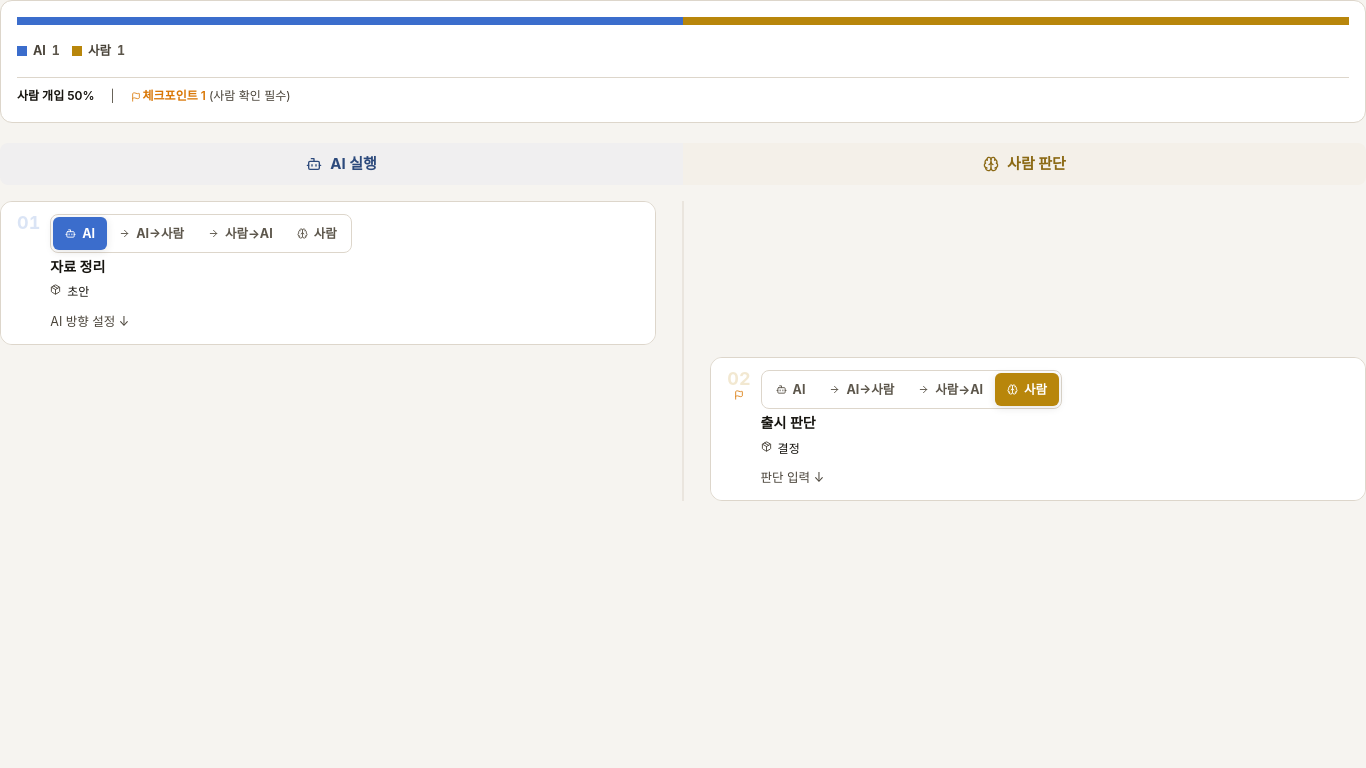
WorkflowGraph navigation › jumps from a role legend to the exact expanded step
Click the button with aria-label "사람 단계 1개 중 첫 단계로 이동": (98, 51) [72,37,125,65]
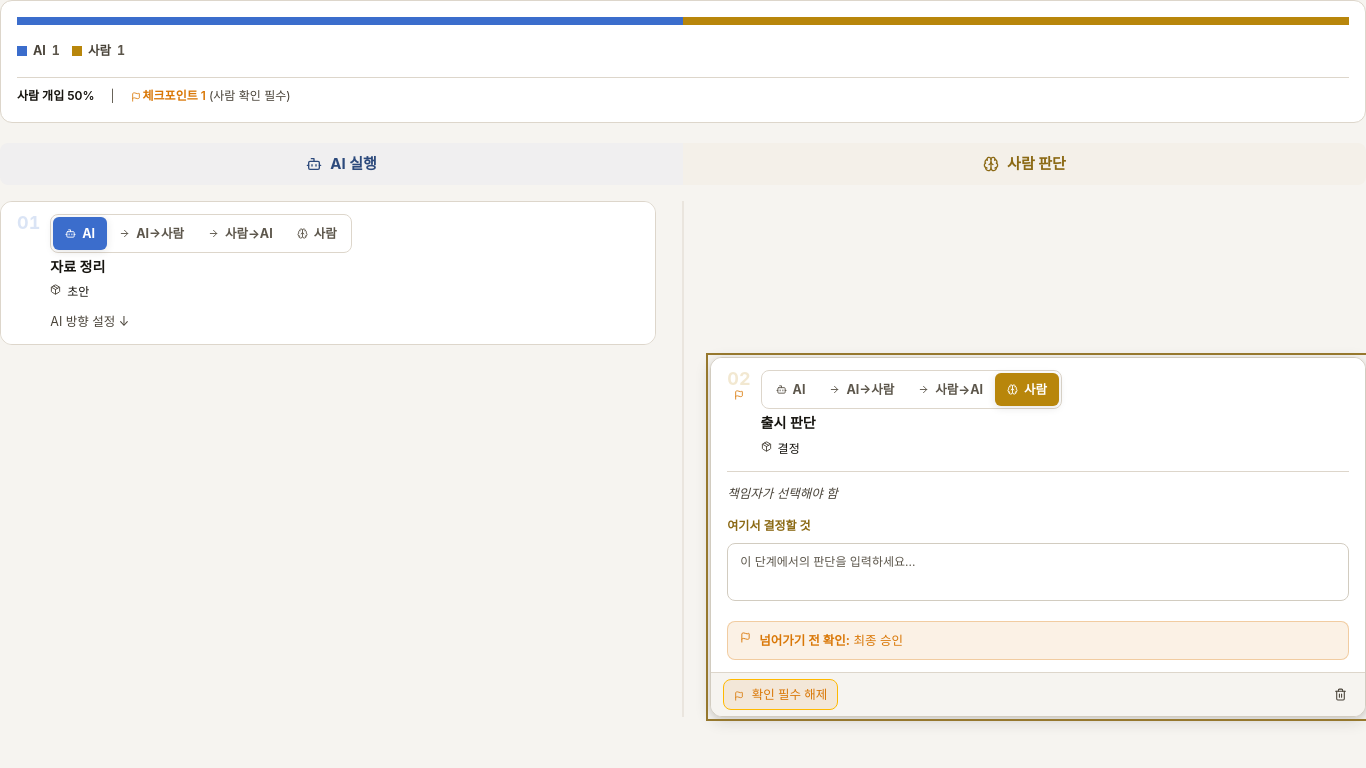
Now the element with id "recast-step-1" shows "책임자가 선택해야 함", box [727,486,838,501]
